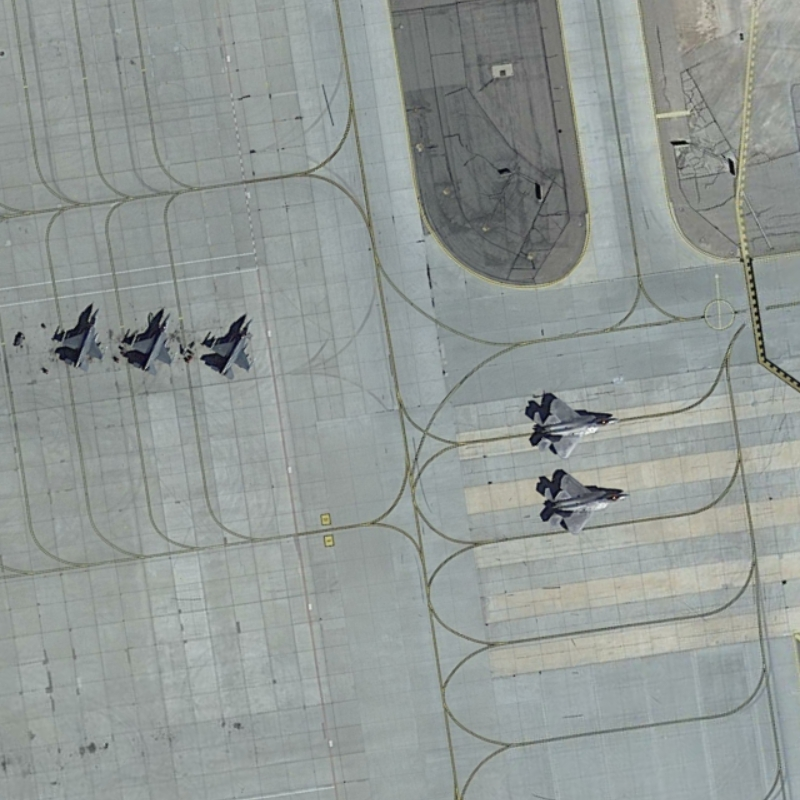A15: (518, 383, 623, 464), (531, 465, 637, 539)
A5: (42, 299, 114, 378), (115, 305, 182, 381), (198, 313, 260, 383)
